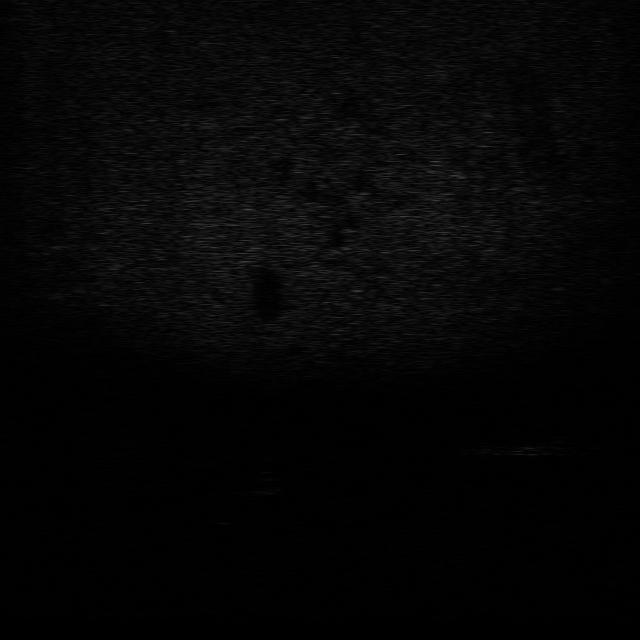ball: (236, 469, 285, 498)
human body: (472, 437, 574, 461)
